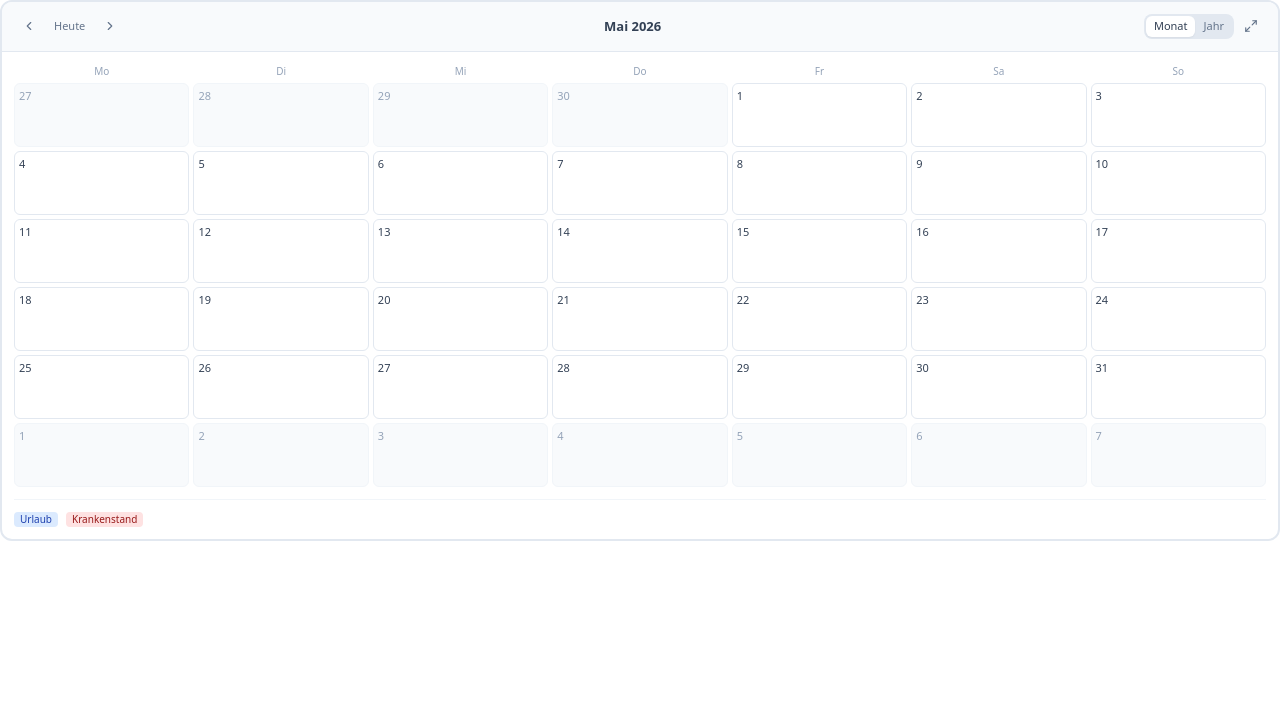
LeaveCalendar — fullscreen toggle › clicking the Vollbild button switches to the fixed-overlay layout
Click the button named "Vollbild".
click(1251, 26)  # box [1240, 15, 1262, 37]
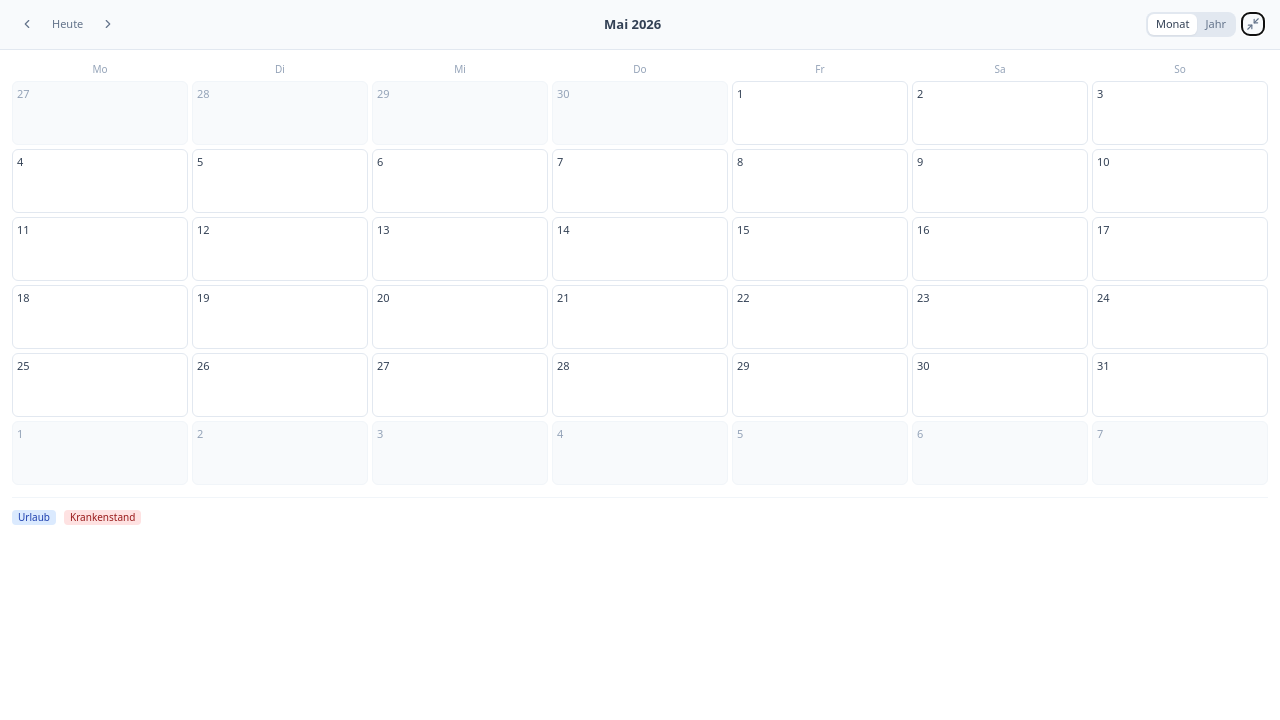
Expected: the button named "Vollbild verlassen" is shown, [1242, 13, 1264, 35]
